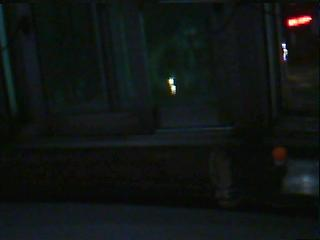oball: (272, 146, 287, 161)
